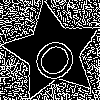O: (28, 27, 89, 87)
